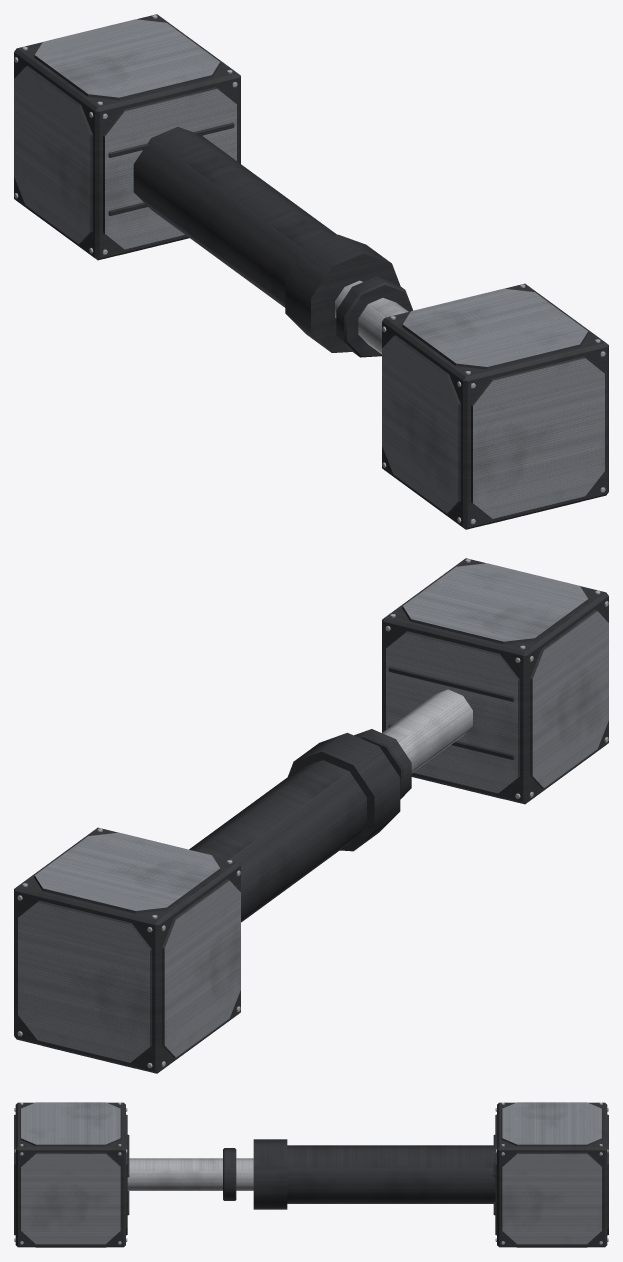
The model's file is R4C_STRUT_LONG.glb.
3 views of the same model, one above another, from view 1: azimuth 30°, elevation 25°; view 2: azimuth 150°, elevation 25°; view 3: azimuth 270°, elevation 25° (orthographic). The views are drawn at different scales.
Parts seen in each view (by area): view 1: R4C_STRUT_LONG; view 2: R4C_STRUT_LONG; view 3: R4C_STRUT_LONG.
Boxes of the visible parts, x1,y1,x2,y2 form: R4C_STRUT_LONG: [14, 14, 608, 529]; R4C_STRUT_LONG: [14, 558, 608, 1073]; R4C_STRUT_LONG: [14, 1102, 608, 1247].
Size of the model in its own units: 0.52 by 0.52 by 2.72.
4 materials, 4 textured.
